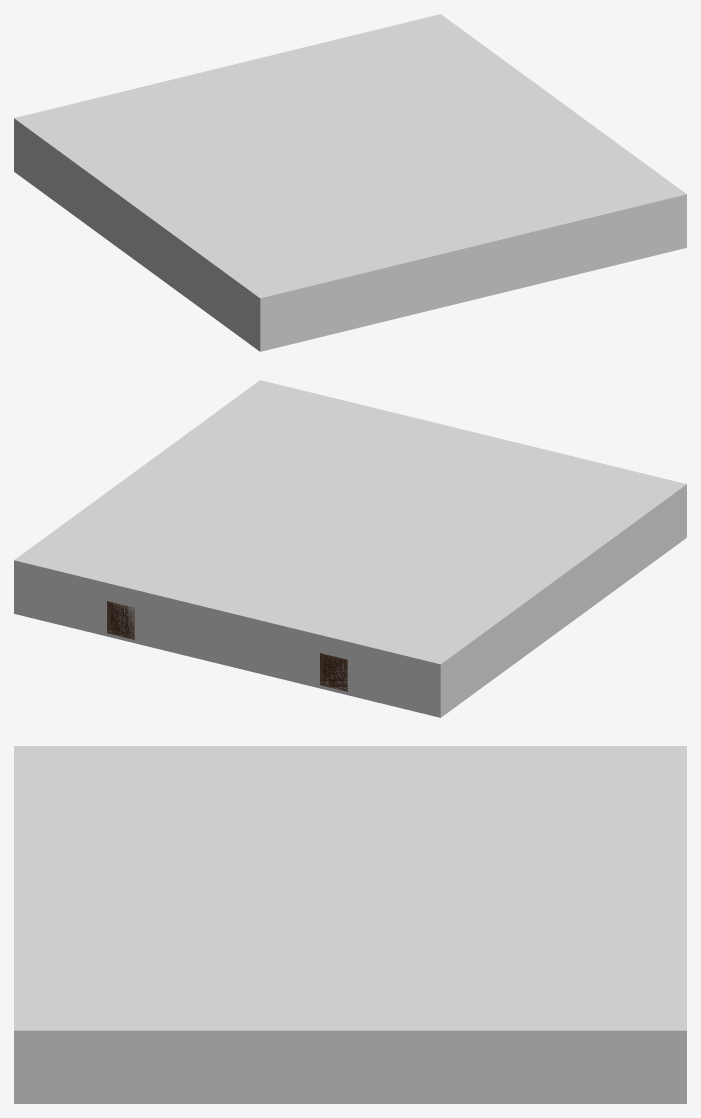
File: house_floor.glb
The picture shows the model from 3 angles, top to bottom: view 1: azimuth 30°, elevation 25°; view 2: azimuth 150°, elevation 25°; view 3: azimuth 270°, elevation 25°; orthographic projection. The views are drawn at different scales.
Parts seen in each view (by area): view 1: COL_house_floor_static_00; view 2: COL_house_floor_static_00, house_floor_static; view 3: COL_house_floor_static_00.
Boxes of the visible parts, x1,y1,x2,y2 form: COL_house_floor_static_00: (14, 14, 686, 351); COL_house_floor_static_00: (14, 380, 686, 717); house_floor_static: (107, 601, 347, 691); COL_house_floor_static_00: (14, 746, 686, 1103).
Bounding box in the file's own units: 2 × 0.24 × 2.
Materials: 2 (2 with a texture image).
